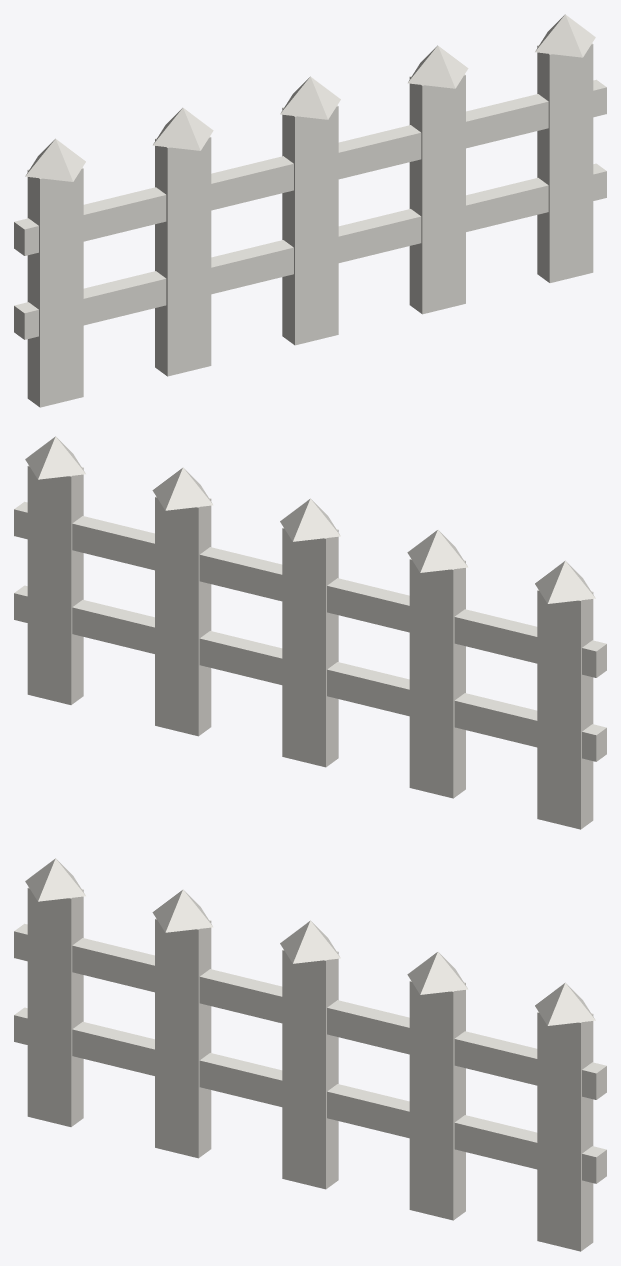
Rendered from mdl_valla.fbx.
The picture shows the model from 3 angles, top to bottom: view 1: azimuth 30°, elevation 25°; view 2: azimuth 150°, elevation 25°; view 3: azimuth 330°, elevation 25°; orthographic projection.
Visible parts, largest first — view 1: mdl_valla; view 2: mdl_valla; view 3: mdl_valla.
Boxes of the visible parts, left/top/right/bottom form: mdl_valla: left=14, top=14, right=606, bottom=407; mdl_valla: left=14, top=436, right=606, bottom=829; mdl_valla: left=14, top=858, right=606, bottom=1251.
Size of the model in its own units: 800 by 340 by 84.
